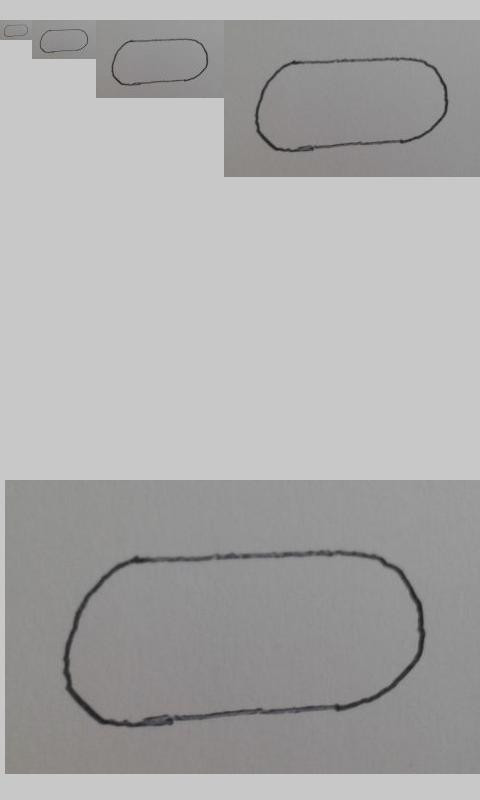chip: (63, 547, 428, 729), (254, 57, 449, 153), (110, 38, 209, 86), (39, 28, 89, 54), (3, 24, 29, 37)
